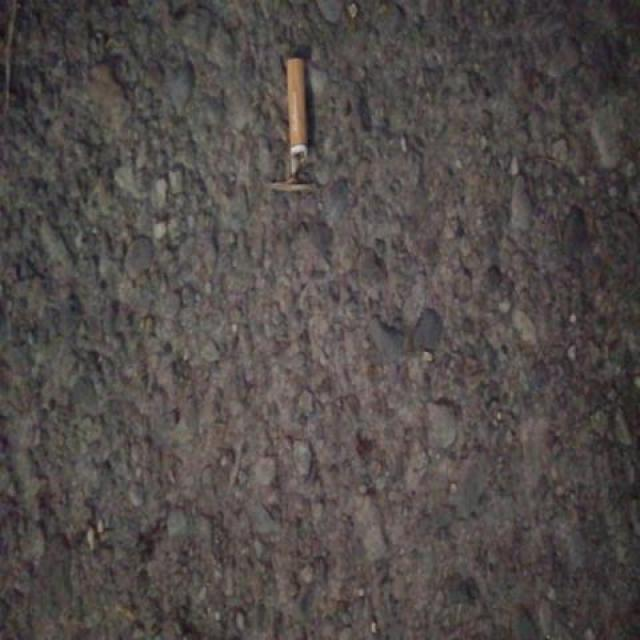non-organic waste: (282, 52, 314, 180)
